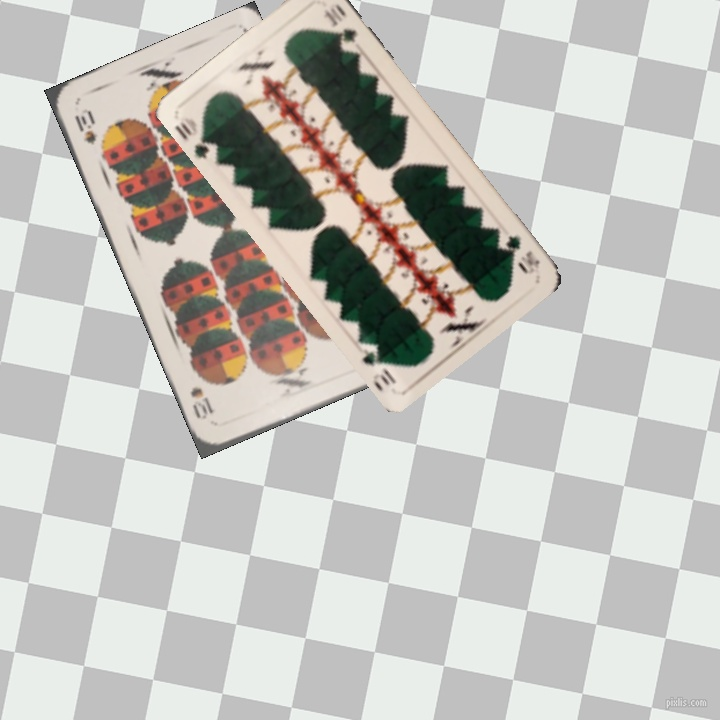G10: (171, 113, 221, 162), (501, 231, 543, 276)
S10: (70, 107, 100, 148)
